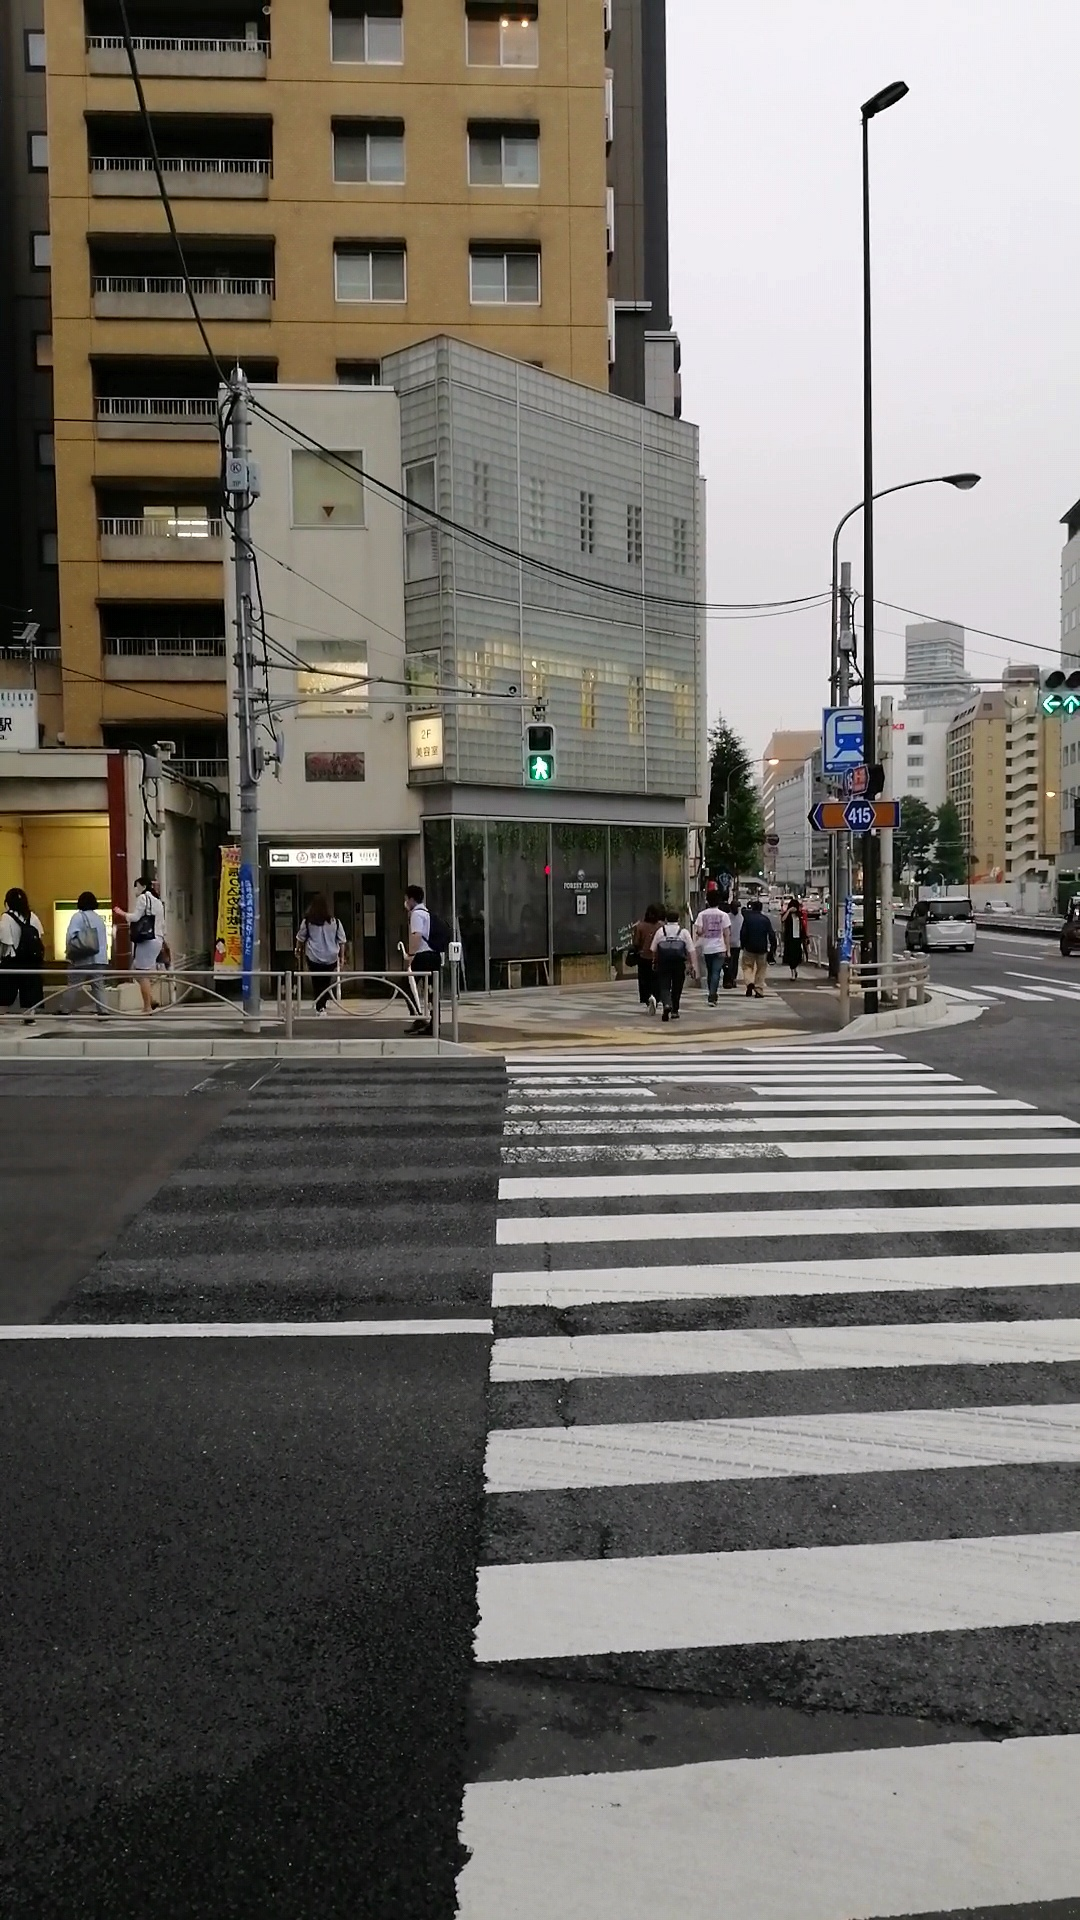green: (524, 723, 556, 783)
